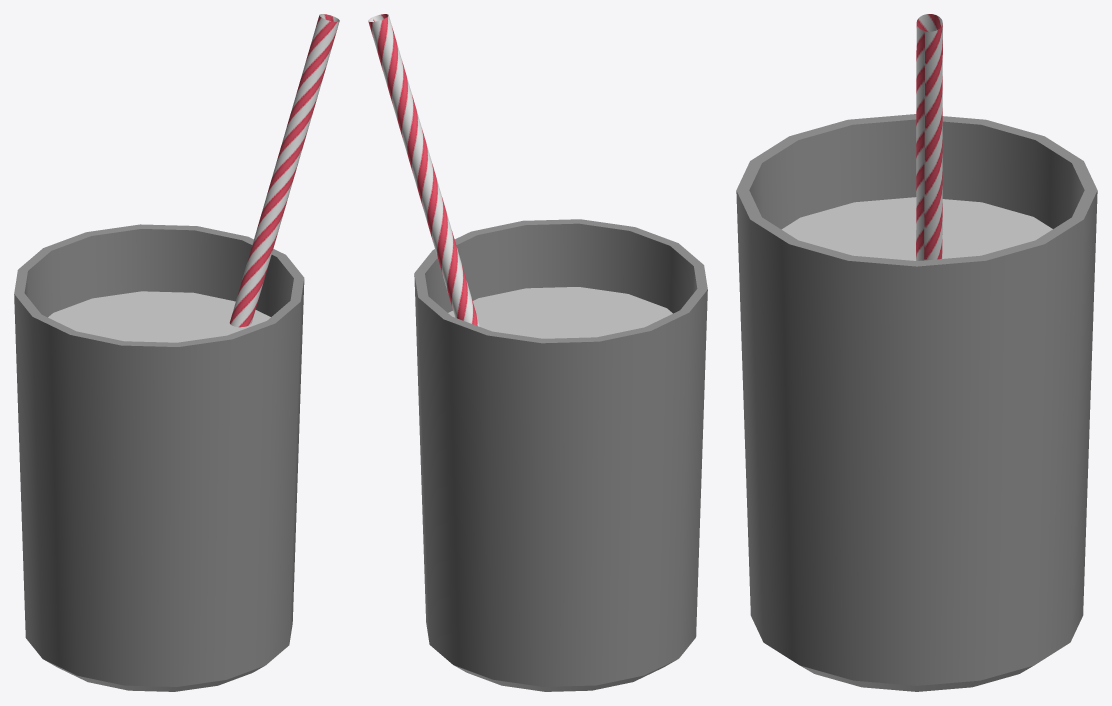
The model's file is Milk.FBX.
The picture shows the model from 3 angles, left to right: view 1: azimuth 30°, elevation 25°; view 2: azimuth 150°, elevation 25°; view 3: azimuth 270°, elevation 25°; orthographic projection. The views are drawn at different scales.
Visible parts, largest first — view 1: glass, milk, straw; view 2: glass, milk, straw; view 3: glass, milk, straw.
Boxes of the visible parts, x1,y1,x2,y2 form: glass: [14, 224, 304, 691]; milk: [48, 291, 270, 342]; straw: [229, 14, 339, 327]; glass: [414, 219, 707, 691]; milk: [448, 287, 672, 338]; straw: [368, 14, 479, 326]; glass: [736, 114, 1097, 691]; milk: [781, 197, 1052, 260]; straw: [916, 14, 942, 260].
Size of the model in its own units: 12.27 by 21.91 by 10.
